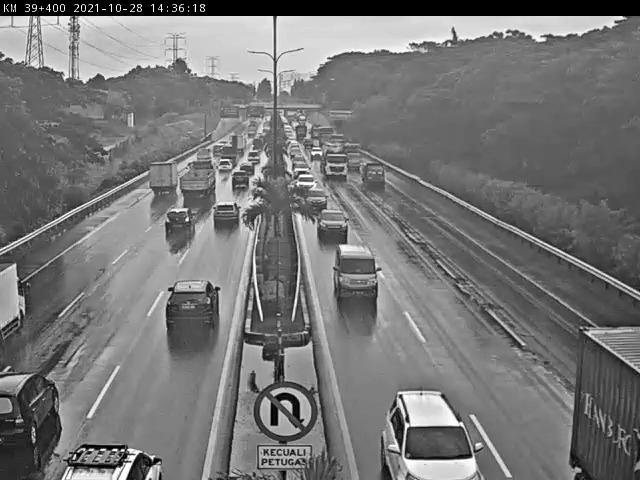big truck: (178, 165, 216, 201), (319, 150, 348, 178)
car: (381, 388, 483, 480), (330, 241, 380, 300), (165, 278, 222, 328), (161, 206, 196, 238), (316, 207, 349, 237), (210, 200, 241, 230), (304, 184, 329, 212), (295, 171, 316, 191), (229, 173, 249, 192), (238, 160, 256, 175), (216, 158, 232, 174)
small truck: (147, 159, 181, 197), (357, 160, 387, 188)
